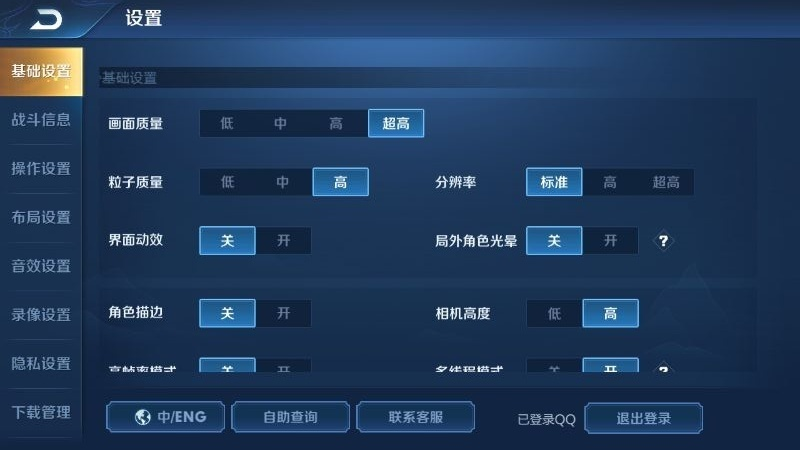return: (16, 4, 76, 35)
tag: (1, 343, 80, 376), (1, 100, 77, 133), (1, 151, 76, 183), (1, 294, 78, 325), (1, 247, 76, 278), (1, 199, 77, 229), (578, 296, 636, 325), (199, 295, 255, 325), (199, 225, 254, 255), (525, 225, 583, 253), (312, 167, 368, 194), (370, 109, 420, 135), (529, 168, 579, 192)
